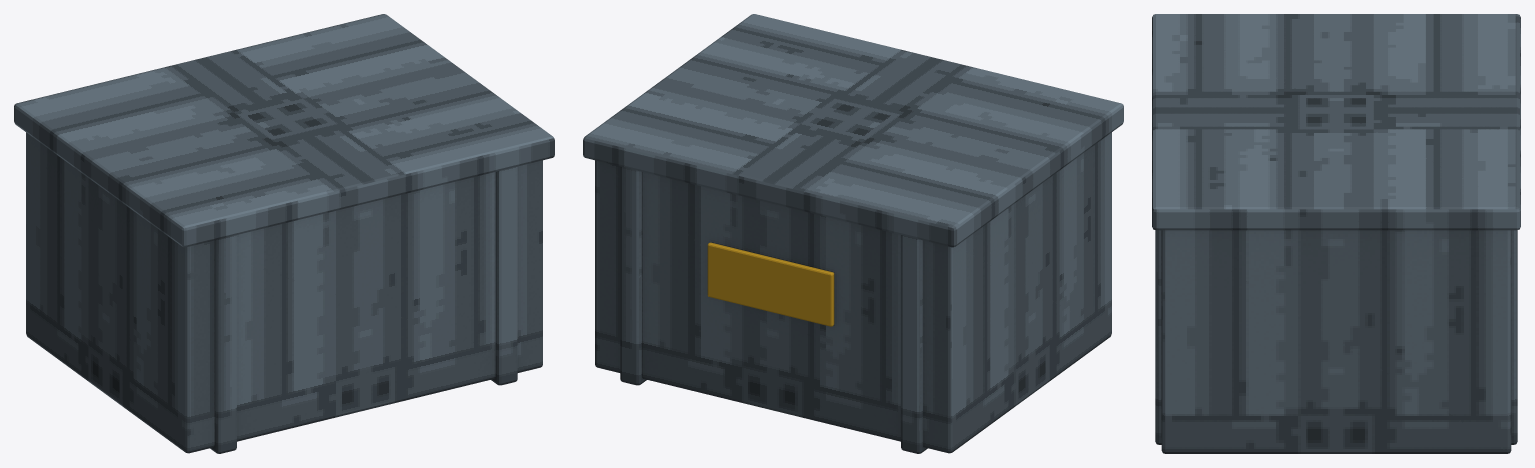
Rendered from base_crate_medium_sealed.glb.
3 views of the same model, side by side, from view 1: azimuth 30°, elevation 25°; view 2: azimuth 150°, elevation 25°; view 3: azimuth 270°, elevation 25° (orthographic). The views are drawn at different scales.
Parts seen in each view (by area): view 1: base_crate_medium_sealed.001; view 2: base_crate_medium_sealed.001; view 3: base_crate_medium_sealed.001.
Boxes of the visible parts, bbox=[...] form: base_crate_medium_sealed.001: bbox=[14, 14, 554, 453]; base_crate_medium_sealed.001: bbox=[583, 14, 1123, 453]; base_crate_medium_sealed.001: bbox=[1152, 14, 1520, 453].
Bounding box in the file's own units: 1.46 × 0.89 × 1.16.
Materials: 3 (3 with a texture image).
